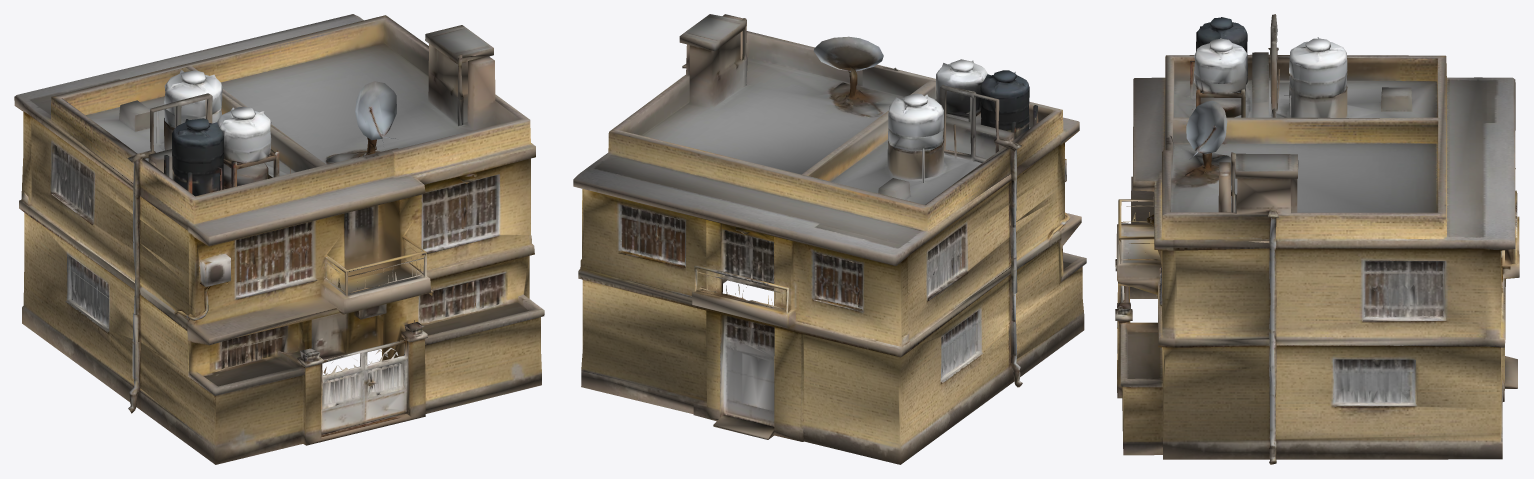
File: bld_house.glb
The picture shows the model from 3 angles, left to right: view 1: azimuth 30°, elevation 25°; view 2: azimuth 150°, elevation 25°; view 3: azimuth 270°, elevation 25°; orthographic projection. The views are drawn at different scales.
Visible parts, largest first — view 1: geometry_0; view 2: geometry_0; view 3: geometry_0.
Boxes of the visible parts, box(x1,y1,x2,y2) form: geometry_0: box(14, 14, 544, 464); geometry_0: box(573, 14, 1086, 464); geometry_0: box(1115, 14, 1519, 464).
Size of the model in its own units: 0.769 by 0.6171 by 0.7679.
Materials: 1 (1 with a texture image).
